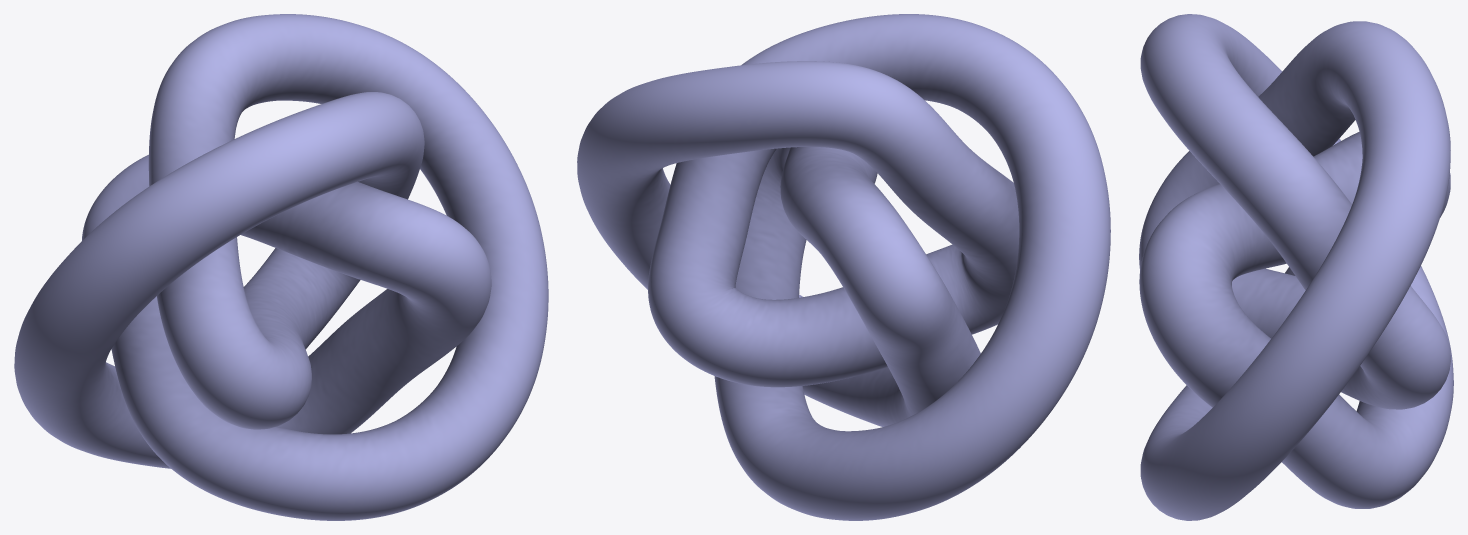
The model's file is knot-v1.glb.
The picture shows the model from 3 angles, left to right: view 1: azimuth 30°, elevation 25°; view 2: azimuth 150°, elevation 25°; view 3: azimuth 270°, elevation 25°; orthographic projection. The views are drawn at different scales.
Parts seen in each view (by area): view 1: Knot; view 2: Knot; view 3: Knot.
Part boxes in pixels (x1=…): Knot: x1=14, y1=14, x2=548, y2=520; Knot: x1=577, y1=14, x2=1110, y2=520; Knot: x1=1139, y1=14, x2=1453, y2=520.
Bounding box in the file's own units: 10.72 × 9.05 × 5.71.
